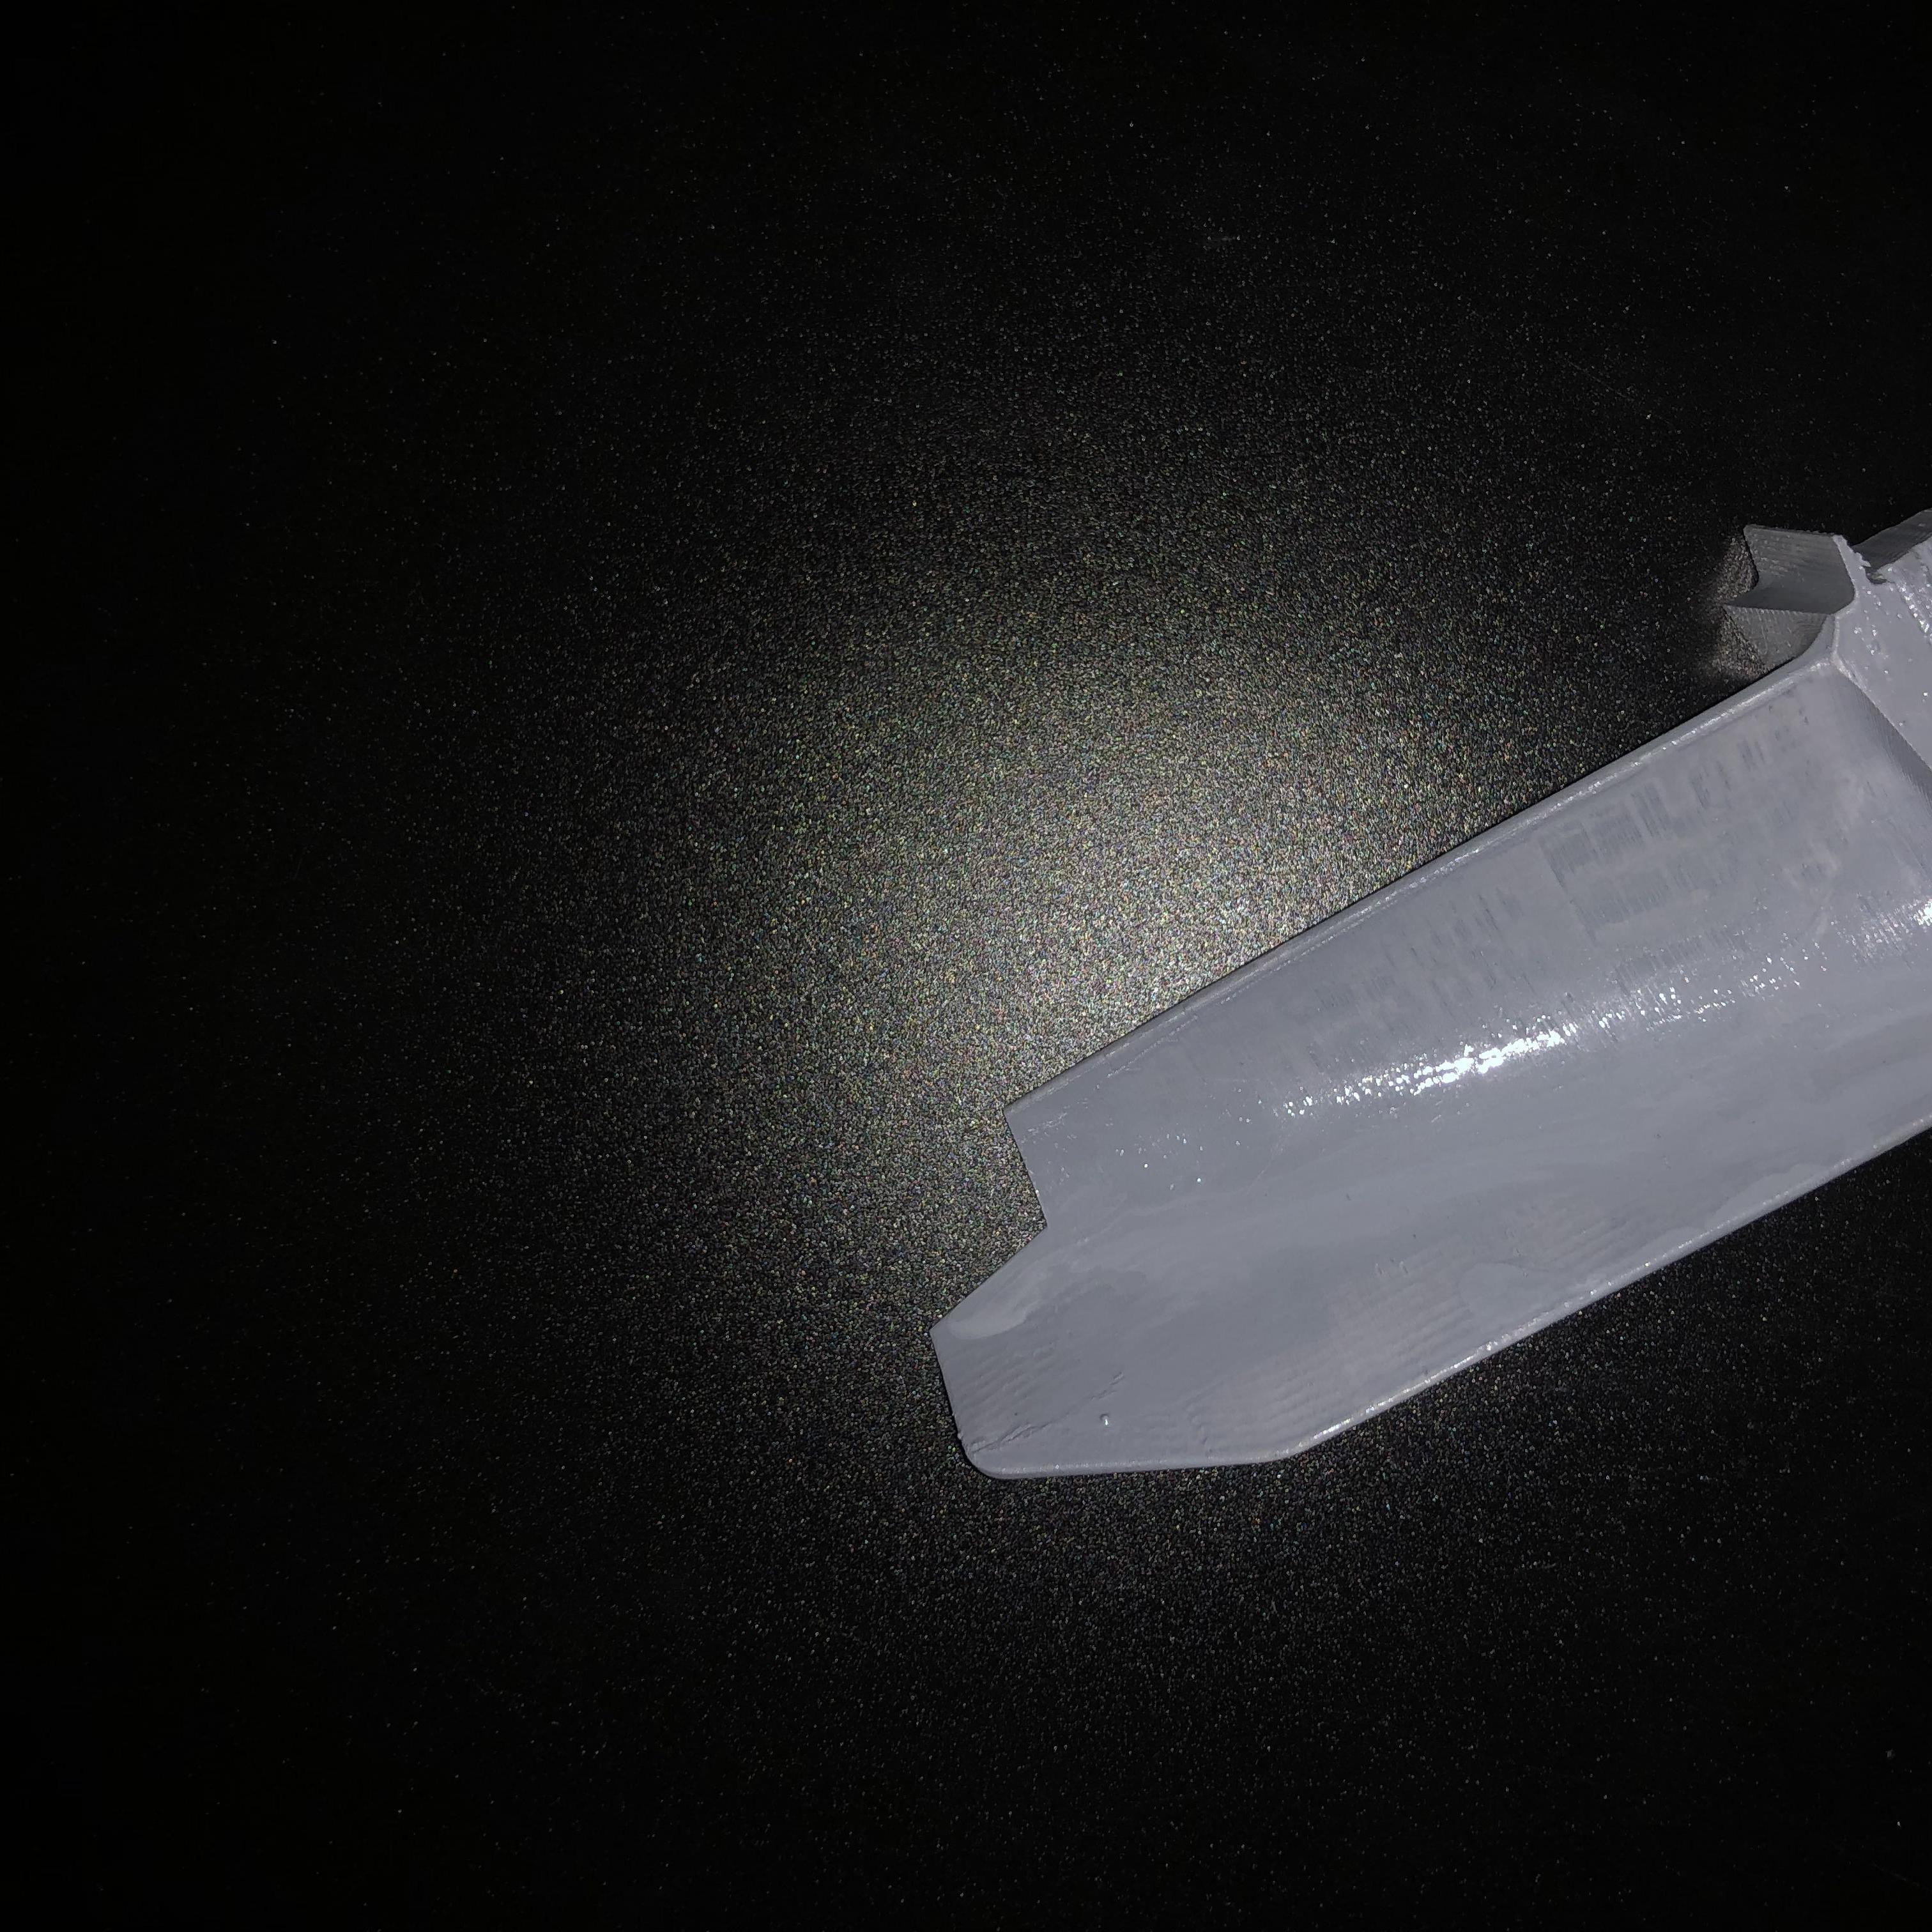fracture: (915, 1111, 1083, 1345)
